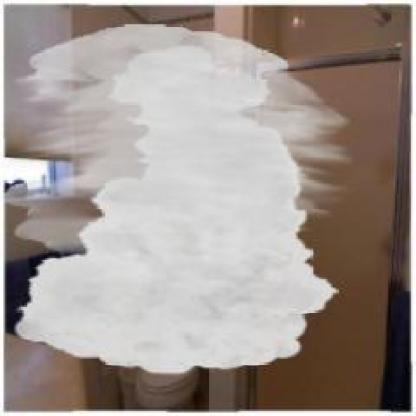Smoke: (2, 24, 352, 376)
